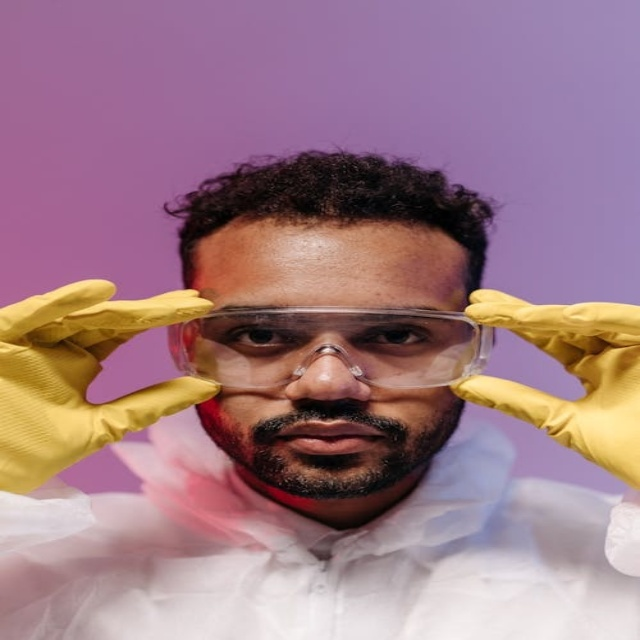Gafas: (169, 306, 497, 390)
Guantes: (0, 277, 222, 500), (445, 288, 638, 505)
Sin_mascara: (252, 415, 399, 487)
